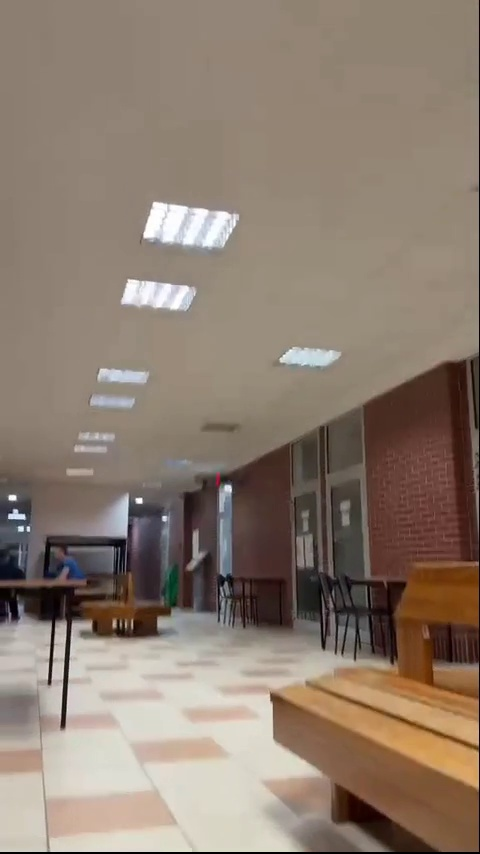drone: (182, 464, 251, 494)
no vest: (47, 542, 80, 590)
